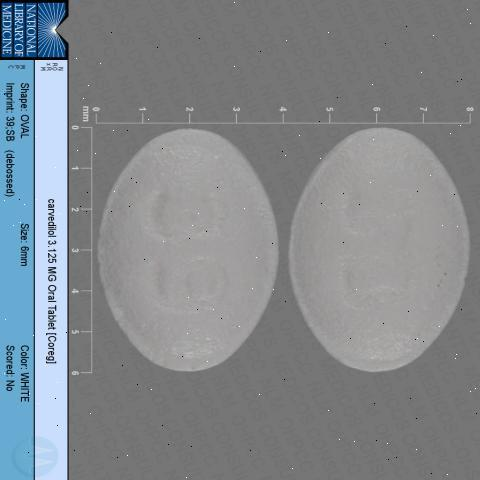Pill: (87, 112, 283, 378), (280, 108, 471, 377)
